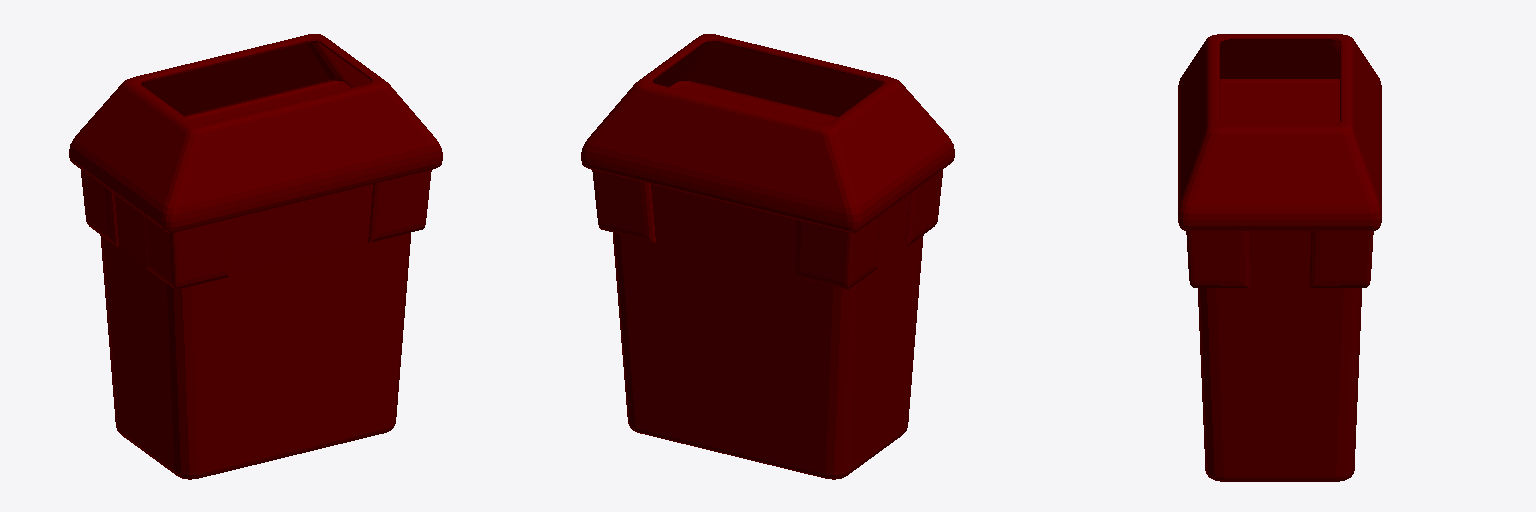
The model's file is redBin.obj.
3 renders of one model, left to right at view 1: azimuth 30°, elevation 25°; view 2: azimuth 150°, elevation 25°; view 3: azimuth 270°, elevation 25°, orthographic.
Visible parts, largest first — view 1: redBin_Material.026; view 2: redBin_Material.026; view 3: redBin_Material.026.
Boxes of the visible parts, box(x1,y1,x2,y2) form: redBin_Material.026: box(69, 34, 442, 479); redBin_Material.026: box(581, 34, 954, 479); redBin_Material.026: box(1178, 34, 1381, 481).
Bounding box in the file's own units: 0.8453 × 1.01 × 0.5341.